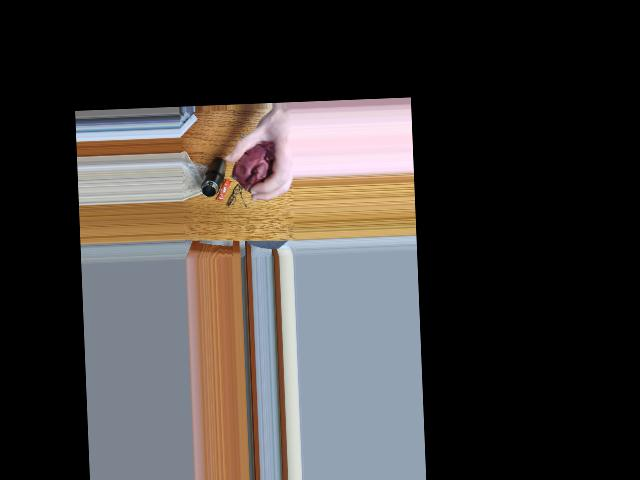onion: (241, 140, 275, 186)
